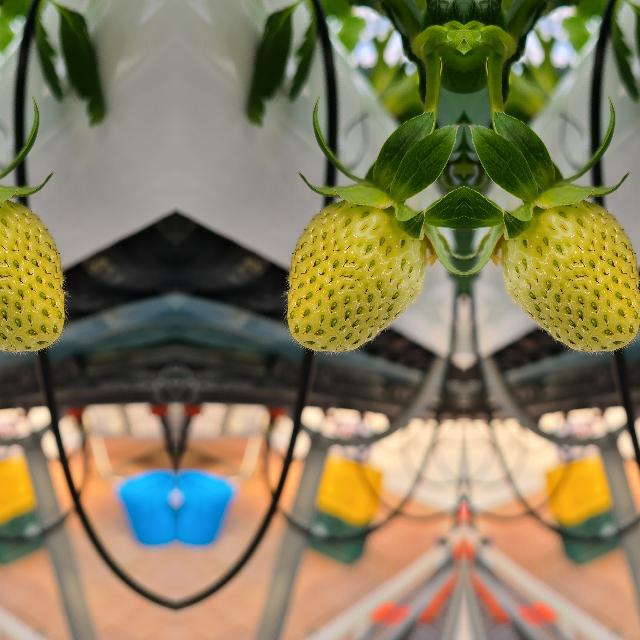Health_25: (284, 200, 426, 354), (499, 200, 640, 354), (0, 200, 66, 354)
